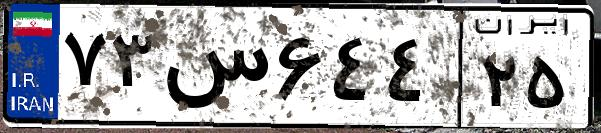2: (475, 38, 525, 113)
3: (110, 28, 158, 98)
4: (385, 28, 445, 110), (330, 28, 385, 110)
5: (525, 38, 570, 115)
6: (270, 28, 330, 110)
7: (57, 26, 110, 100)
س: (158, 20, 270, 120)
